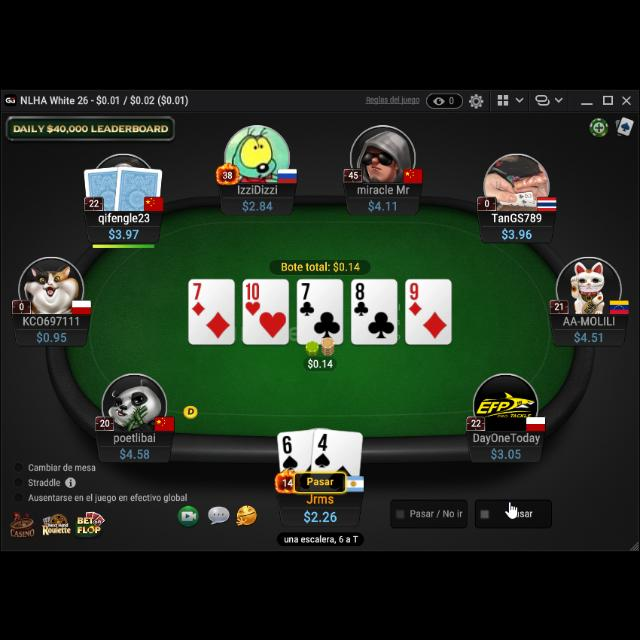4s: (313, 431, 332, 469)
6s: (283, 434, 299, 470)
7c: (298, 280, 316, 316)
7d: (191, 280, 205, 318)
8c: (352, 279, 370, 317)
9d: (406, 280, 424, 316)
Th: (244, 281, 262, 317)
bet_text: (306, 354, 336, 368)
card_back: (114, 162, 164, 212), (82, 163, 126, 210)
dealer: (182, 402, 198, 418)
pot_text: (280, 259, 362, 271)
stack_text: (302, 505, 338, 523), (106, 224, 140, 240), (499, 224, 533, 240), (34, 328, 68, 342), (489, 444, 523, 458), (118, 445, 152, 459), (572, 328, 604, 342), (367, 197, 399, 211), (242, 198, 274, 210)
